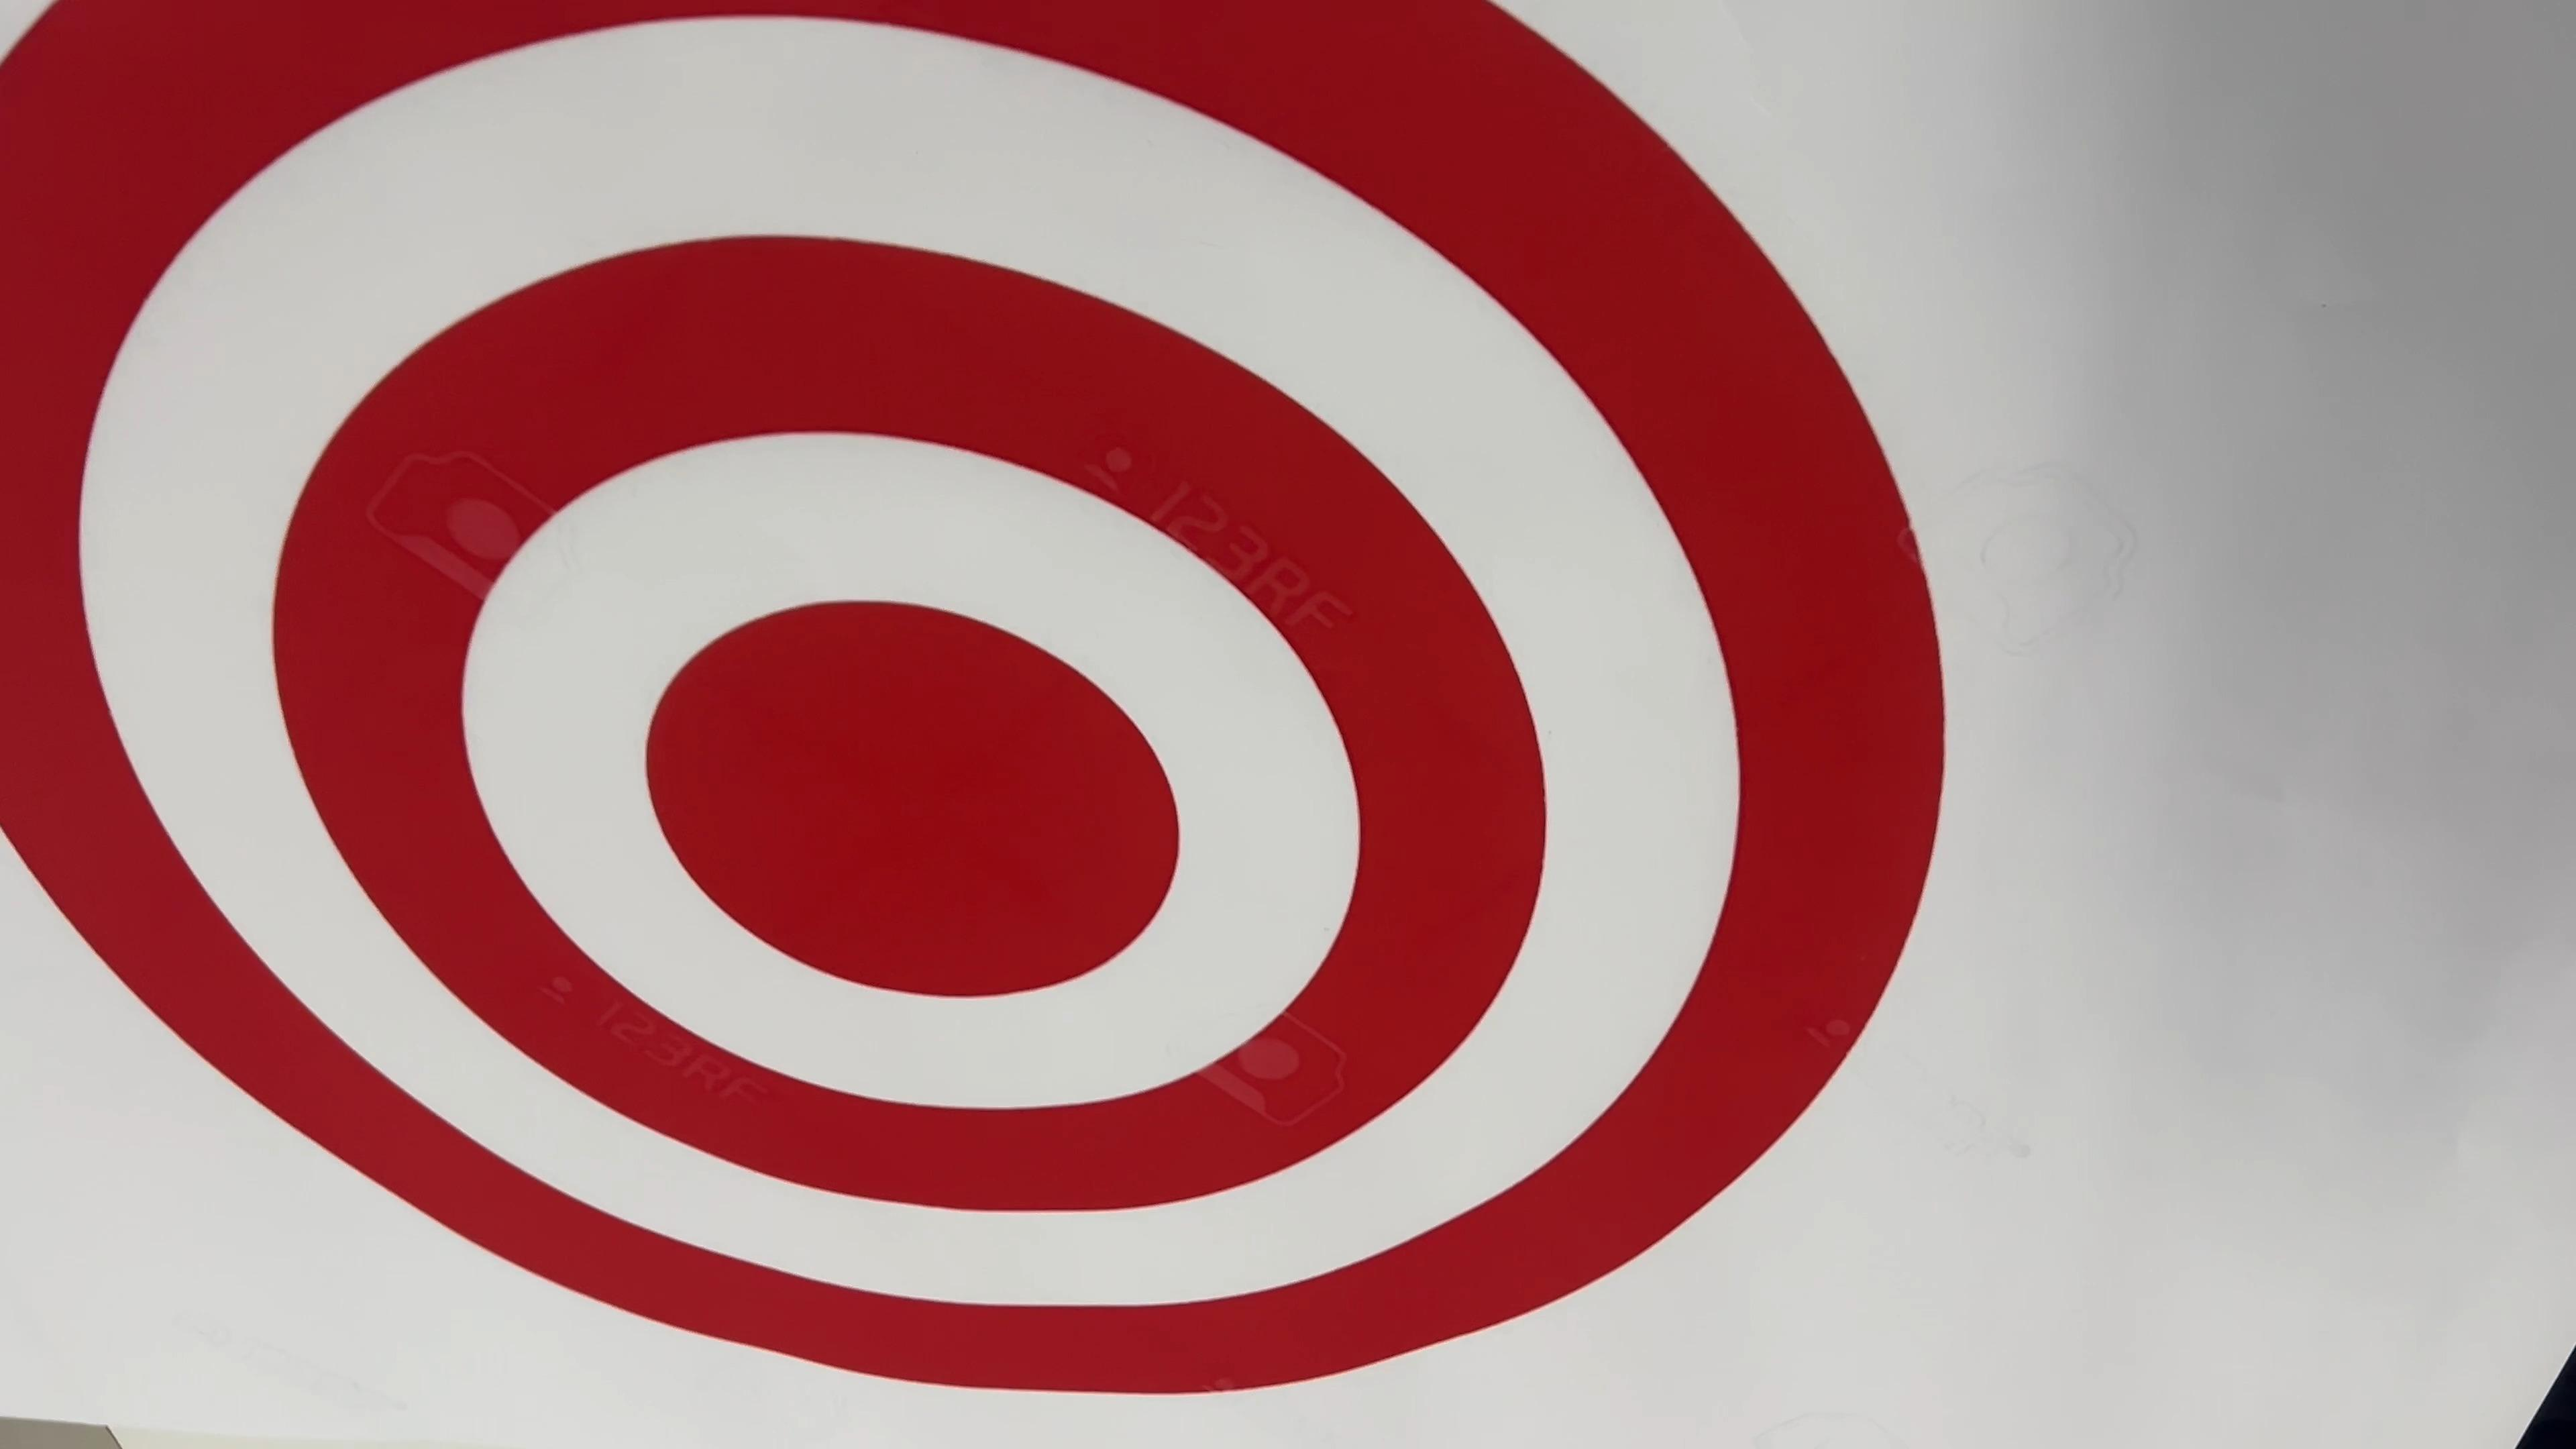target_red: (0, 0, 1990, 1444)
